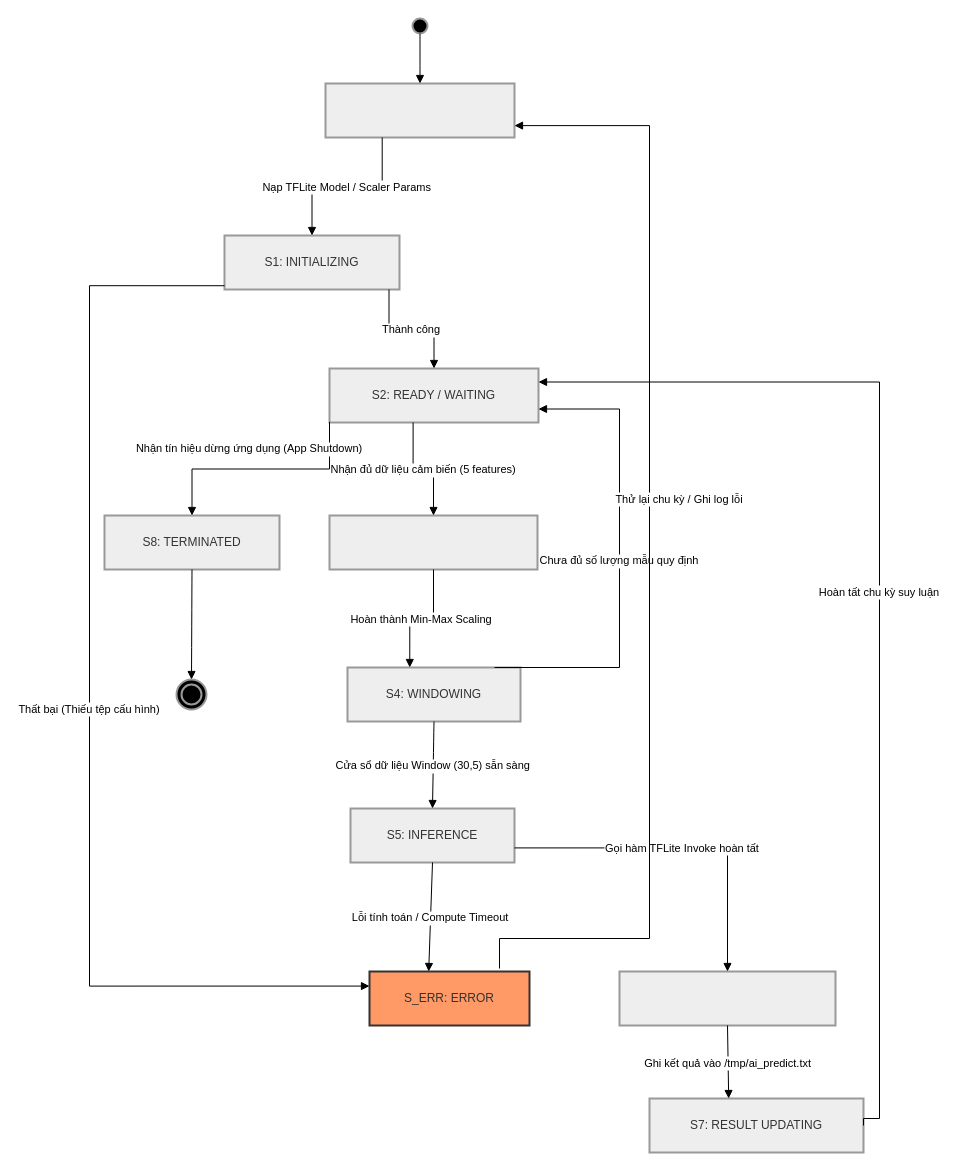
Some shapes in this 957 by 1170 pixel diagram are drawn without their labels. Here are the shapes that lost their labels. From the top down, the centre of each, then its label:
(x=419, y=110): S0: UNINITIALIZED
(x=433, y=542): S3: PRE-PROCESSING
(x=727, y=998): S6: POST-PROCESSING
